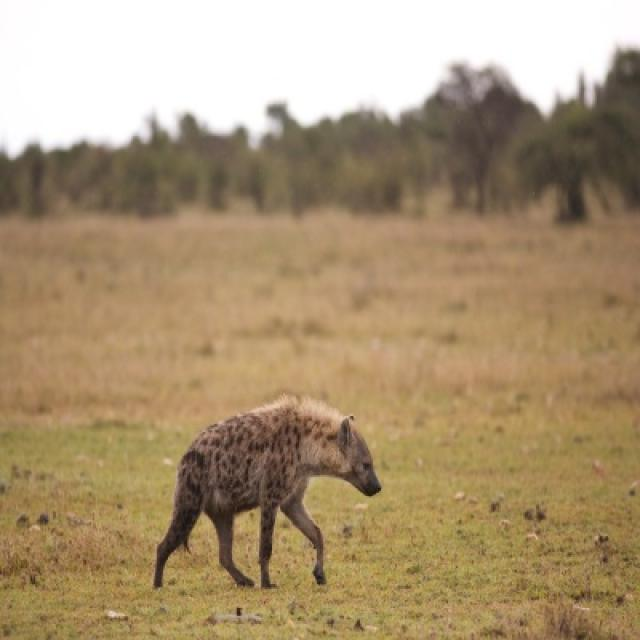hyena: (154, 395, 381, 587)
